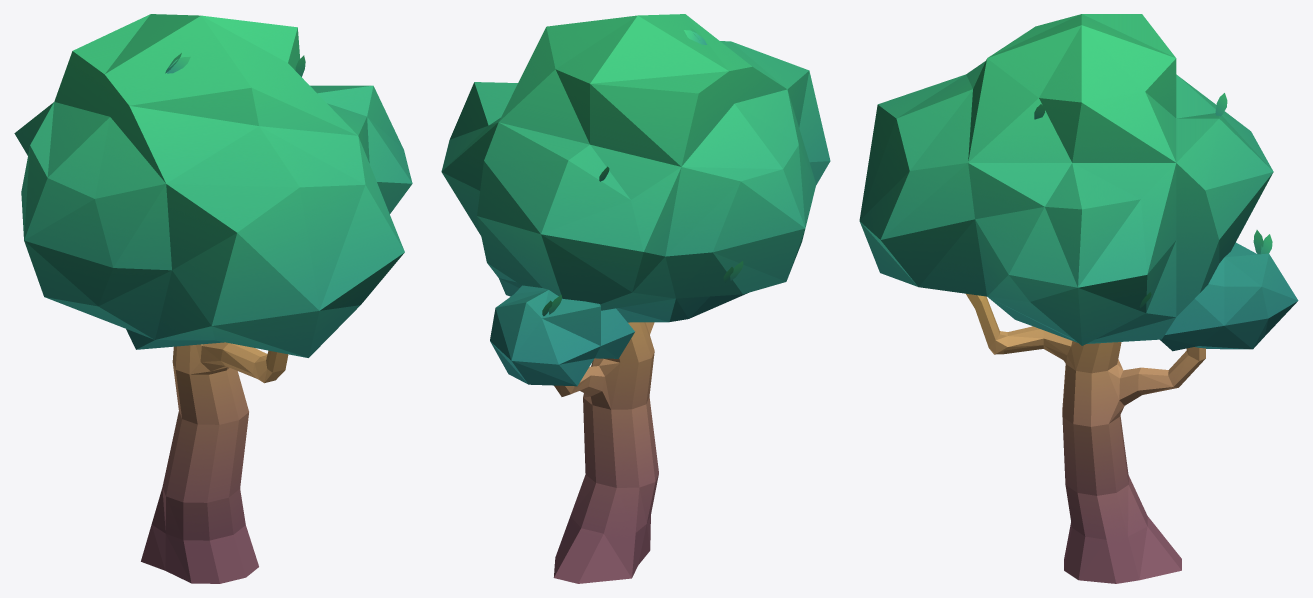
Rendered from albero5.glb.
3 views of the same model, side by side, from view 1: azimuth 30°, elevation 25°; view 2: azimuth 150°, elevation 25°; view 3: azimuth 270°, elevation 25° (orthographic). The views are drawn at different scales.
Bounding box in the file's own units: 120 × 172 × 129.
1 material, 1 textured.
